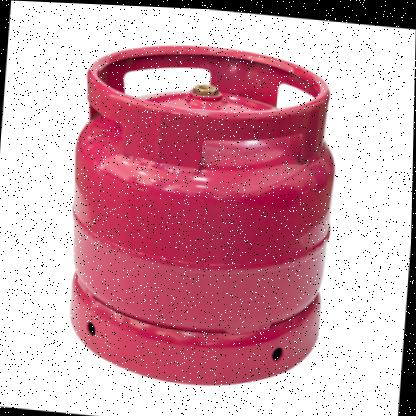gas-tank: (37, 18, 360, 406)
